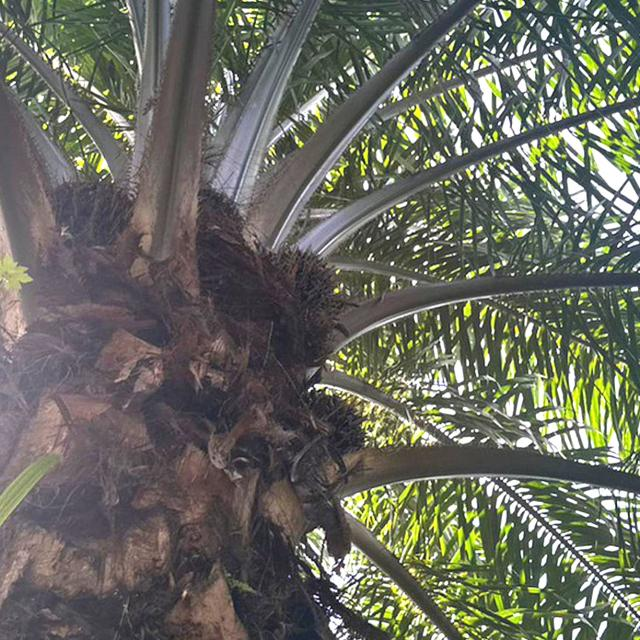unripe: (250, 238, 368, 372), (287, 381, 379, 471)
